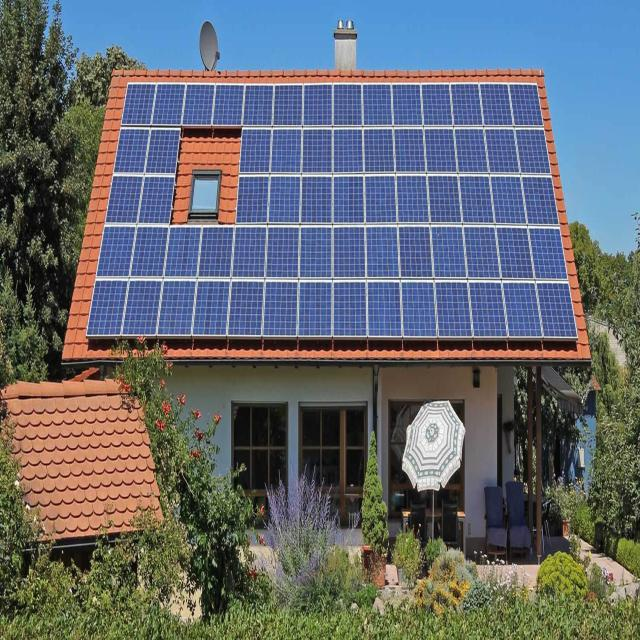clean-solar-panel: (86, 81, 576, 344)
